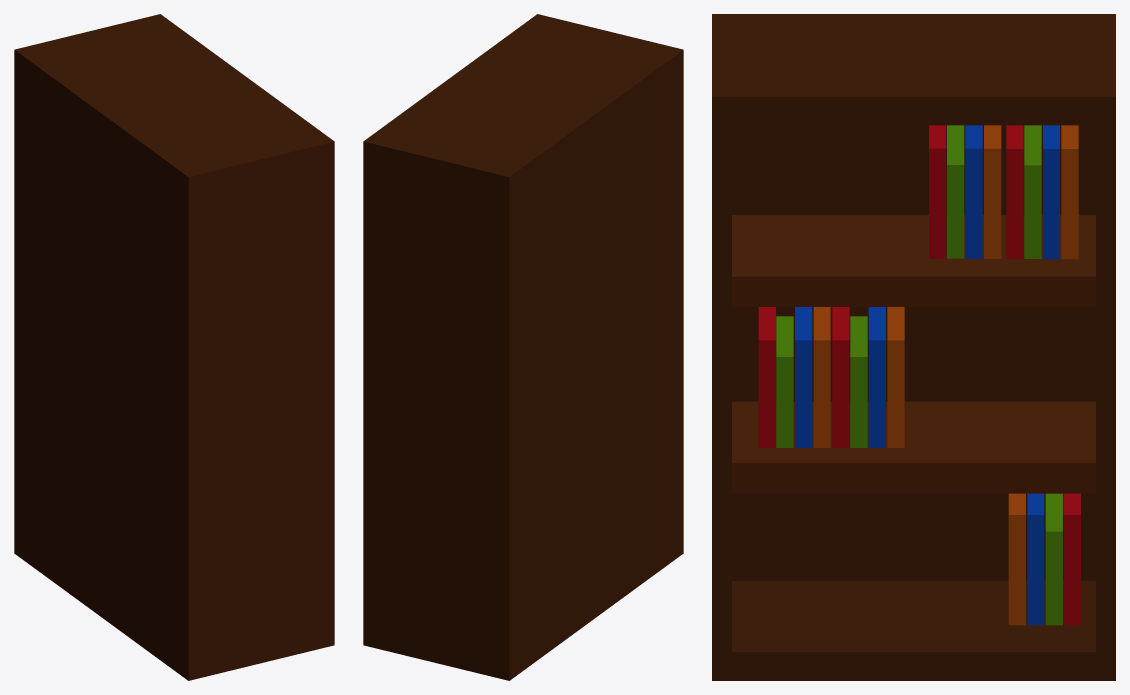
File: bookshelf.fbx
3 views of the same model, side by side, from view 1: azimuth 30°, elevation 25°; view 2: azimuth 150°, elevation 25°; view 3: azimuth 270°, elevation 25° (orthographic). The views are drawn at different scales.
Parts seen in each view (by area): view 1: Cube; view 2: Cube; view 3: Cube, Cube.002, Cube.003, Cube.004, Cube.006, Cube.007, Cube.008, Cube.009, Cube.011, Cube.016, Cube.019, Cube.017 (+11 smaller).
Part boxes in pixels (x1=…): Cube: x1=14, y1=14, x2=334, y2=680; Cube: x1=363, y1=14, x2=683, y2=680; Cube: x1=712, y1=14, x2=1115, y2=680; Cube.002: x1=732, y1=215, x2=1095, y2=306; Cube.003: x1=732, y1=401, x2=1095, y2=493; Cube.004: x1=758, y1=307, x2=775, y2=447; Cube.006: x1=795, y1=307, x2=812, y2=447; Cube.007: x1=813, y1=307, x2=830, y2=447; Cube.008: x1=887, y1=307, x2=904, y2=447; Cube.009: x1=868, y1=307, x2=885, y2=447; Cube.011: x1=832, y1=307, x2=849, y2=447; Cube.016: x1=1006, y1=125, x2=1023, y2=259; Cube.019: x1=1061, y1=125, x2=1078, y2=259; Cube.017: x1=1024, y1=125, x2=1041, y2=258.
Size of the model in its own units: 200 by 659 by 413.
